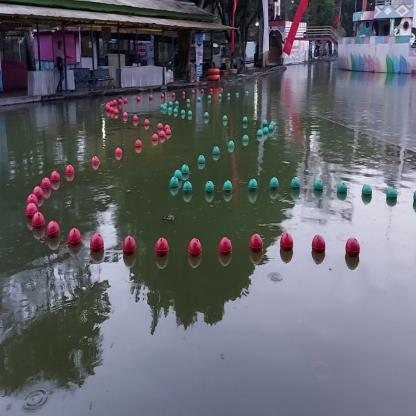green_buoy: (386, 187, 396, 205), (222, 180, 233, 196), (336, 183, 347, 199), (206, 183, 216, 200), (180, 162, 190, 178), (313, 177, 322, 193), (270, 176, 280, 190), (362, 186, 372, 200), (249, 178, 258, 193), (212, 146, 221, 160), (198, 155, 206, 170), (184, 182, 192, 197), (292, 178, 300, 190), (169, 178, 177, 190), (229, 139, 235, 154), (242, 134, 248, 146)
red_buoy: (346, 237, 360, 262), (312, 232, 324, 254), (281, 232, 293, 251), (188, 240, 202, 256), (47, 222, 60, 237), (124, 235, 135, 252), (250, 235, 262, 250), (219, 239, 231, 254), (32, 214, 43, 229), (69, 229, 80, 244), (91, 238, 104, 250), (34, 186, 43, 203), (40, 178, 50, 193), (156, 240, 168, 252), (50, 170, 60, 184), (28, 191, 36, 208), (25, 204, 34, 219), (134, 139, 142, 154), (65, 165, 74, 178), (115, 147, 123, 159), (90, 158, 98, 168), (152, 134, 158, 146)
